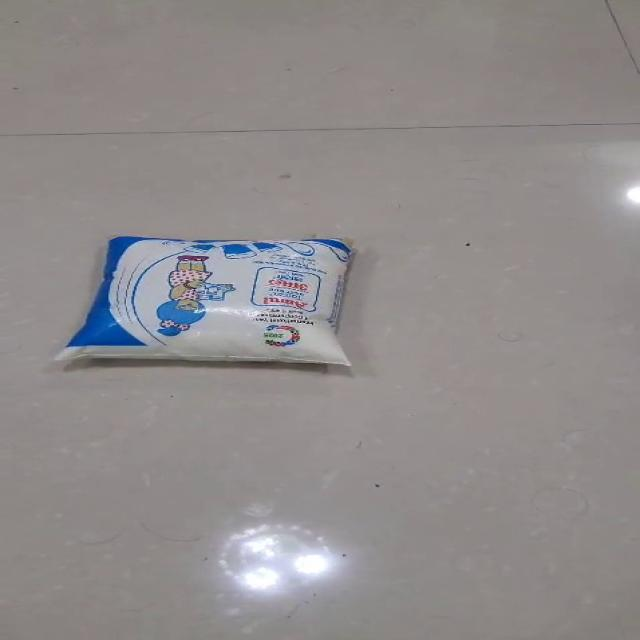plastic: (53, 234, 355, 367)
